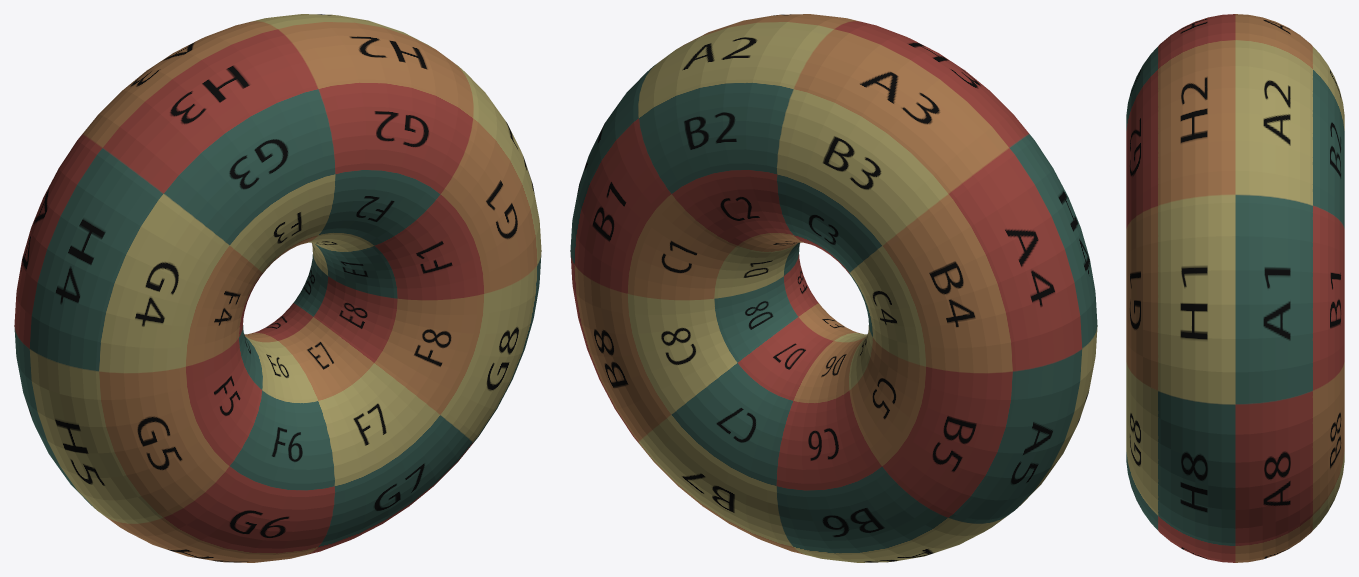
Rendered from texture_torus_R7_r29.glb.
3 views of the same model, side by side, from view 1: azimuth 30°, elevation 25°; view 2: azimuth 150°, elevation 25°; view 3: azimuth 270°, elevation 25° (orthographic). The views are drawn at different scales.
Visible parts, largest first — view 1: world; view 2: world; view 3: world.
Boxes of the visible parts, box(x1,y1,x2,y2) form: world: box(14, 14, 541, 562); world: box(570, 14, 1097, 562); world: box(1126, 14, 1344, 562).
Bounding box in the file's own units: 24.4 × 24.35 × 9.71.
Materials: 1 (1 with a texture image).
